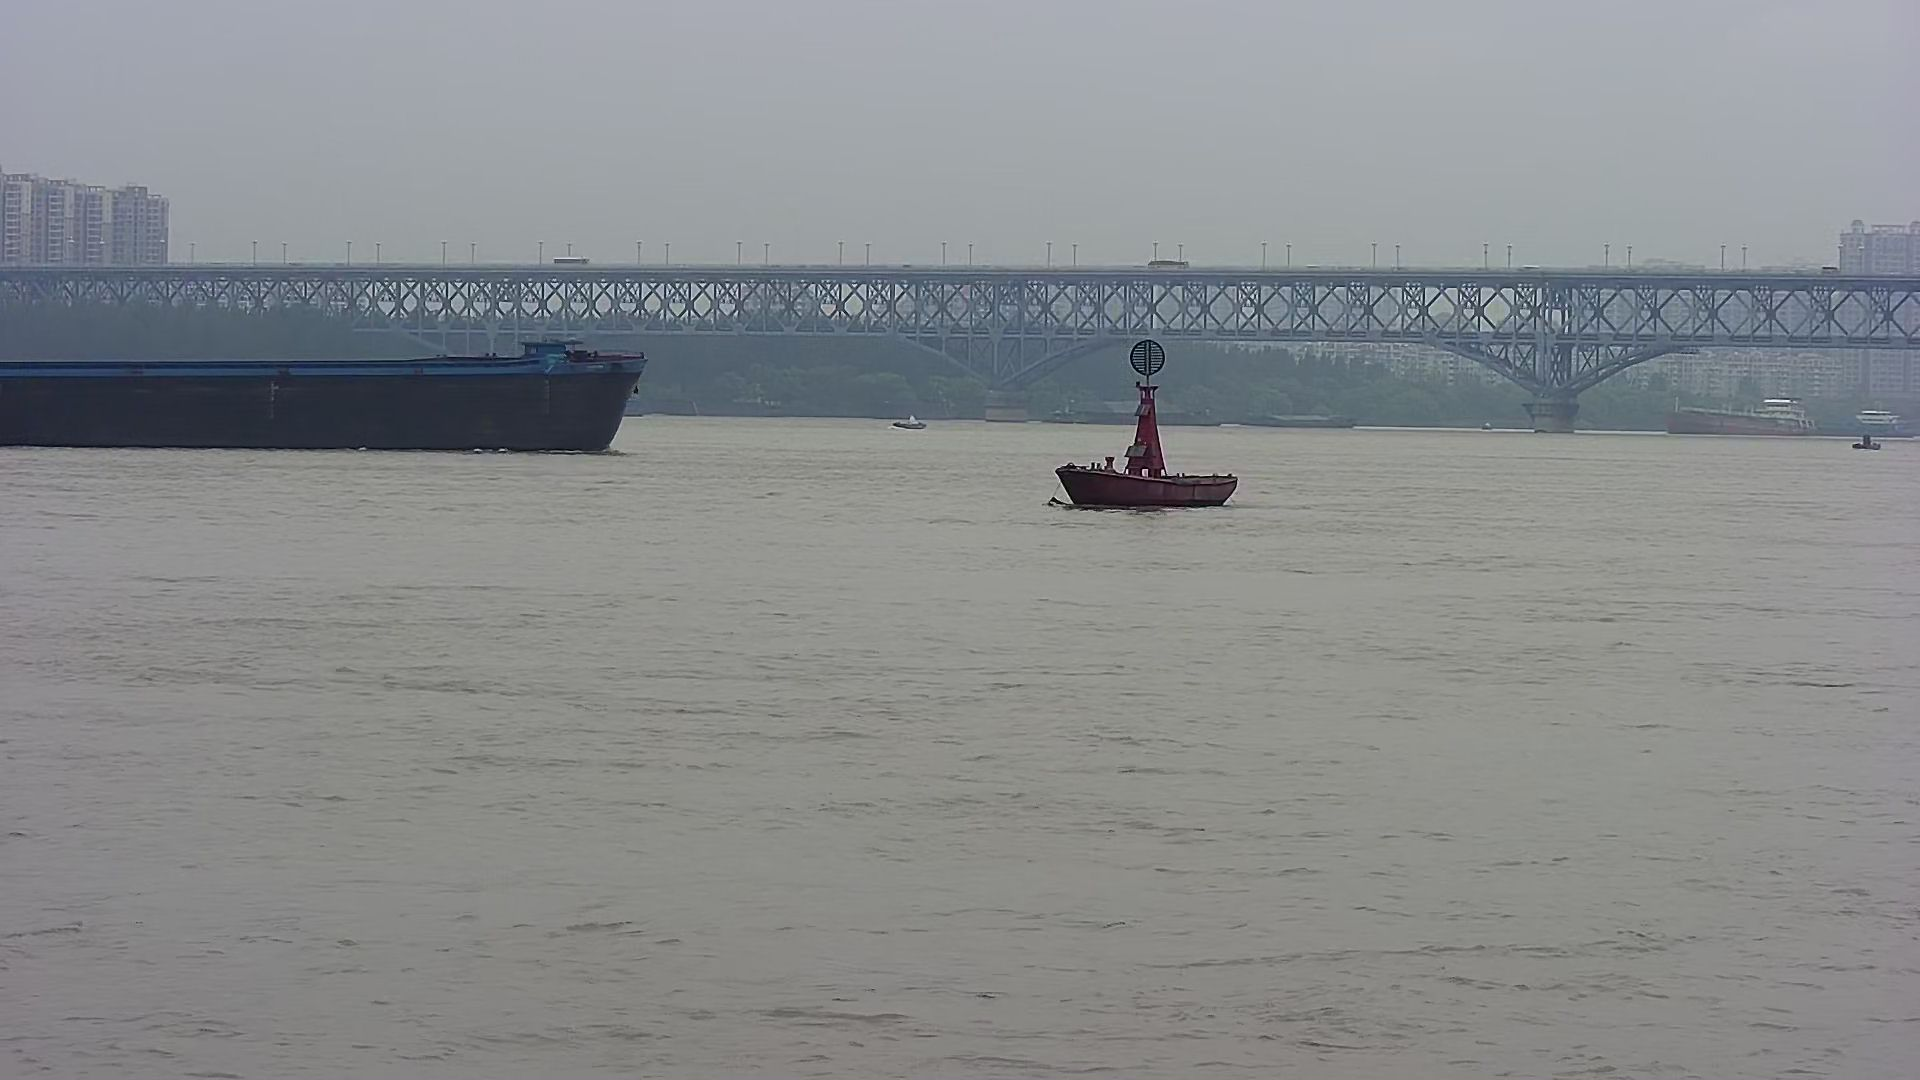boat: (1039, 323, 1280, 522), (876, 404, 940, 434), (1844, 419, 1888, 459)
bridge: (1, 253, 1916, 439)
ship: (1, 338, 671, 469), (1655, 378, 1826, 440), (1240, 400, 1378, 434)
